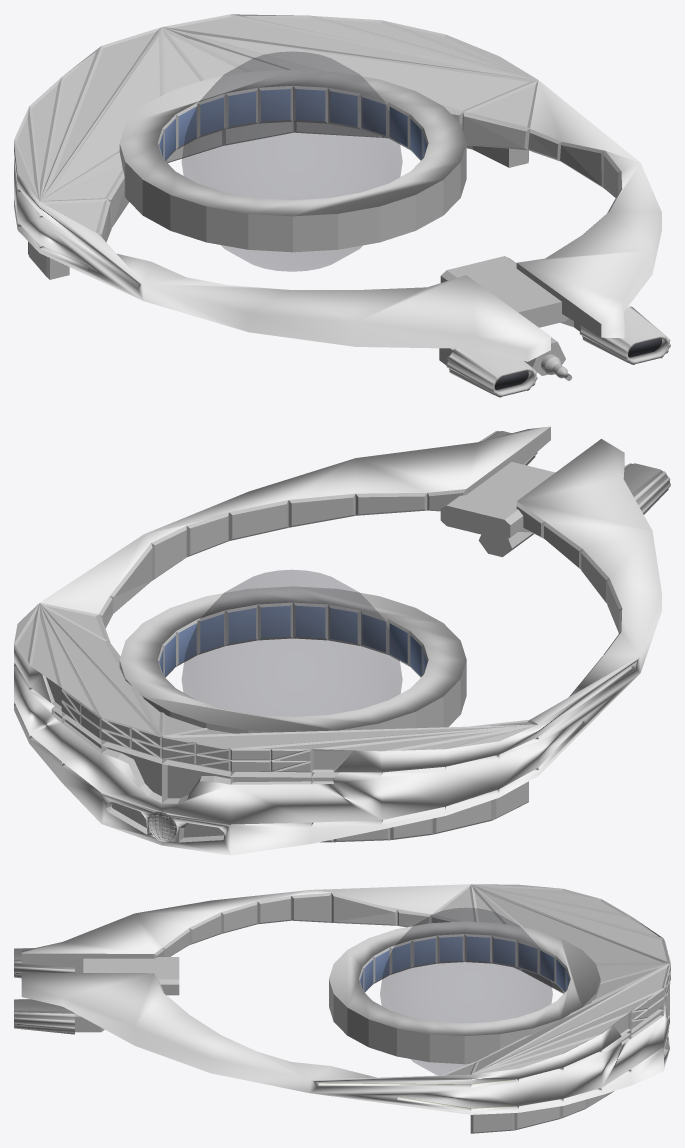
3 views of the same model, one above another, from view 1: azimuth 30°, elevation 25°; view 2: azimuth 150°, elevation 25°; view 3: azimuth 270°, elevation 25° (orthographic). The views are drawn at different scales.
Parts seen in each view (by area): view 1: Ori_Warship; view 2: Ori_Warship; view 3: Ori_Warship.
Boxes of the visible parts, x1,y1,x2,y2 form: Ori_Warship: (14, 14, 670, 397); Ori_Warship: (14, 426, 670, 855); Ori_Warship: (14, 884, 670, 1133).
Size of the model in its own units: 2084 by 3038 by 800.
